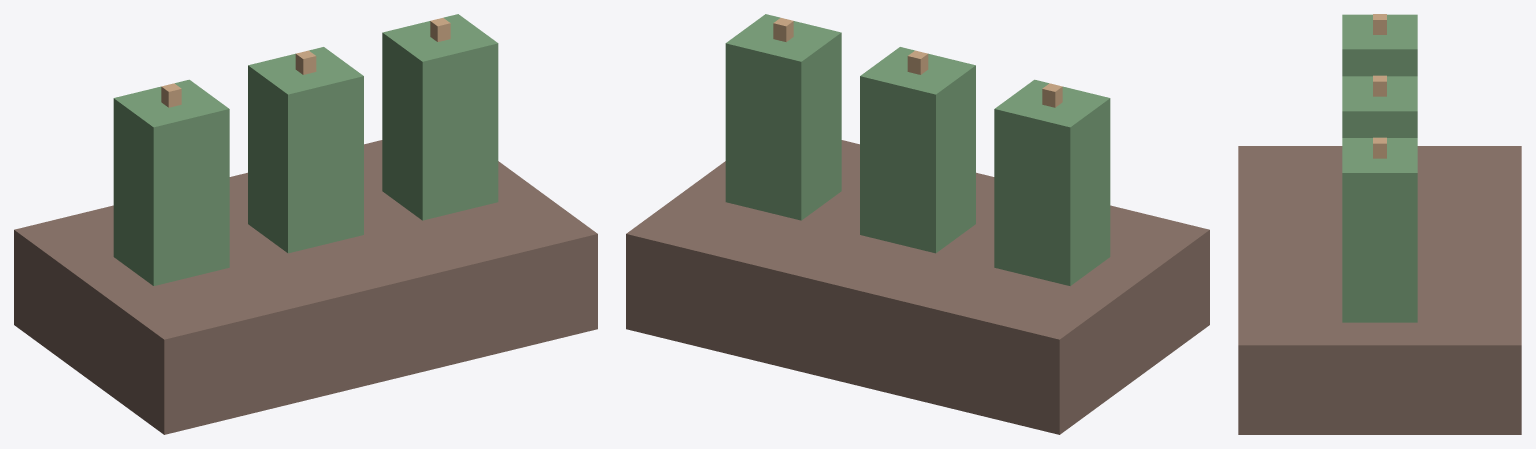
The model's file is herbalist_garden_box.glb.
3 views of the same model, side by side, from view 1: azimuth 30°, elevation 25°; view 2: azimuth 150°, elevation 25°; view 3: azimuth 270°, elevation 25° (orthographic). The views are drawn at different scales.
Visible parts, largest first — view 1: wood_dark, leaf, wood_light; view 2: wood_dark, leaf, wood_light; view 3: wood_dark, leaf, wood_light.
Boxes of the visible parts, x1=… form: wood_dark: x1=14, y1=140, x2=597, y2=434; leaf: x1=113, y1=14, x2=498, y2=285; wood_light: x1=161, y1=18, x2=450, y2=107; wood_dark: x1=626, y1=140, x2=1209, y2=434; leaf: x1=725, y1=14, x2=1110, y2=285; wood_light: x1=773, y1=18, x2=1062, y2=107; wood_dark: x1=1238, y1=146, x2=1521, y2=434; leaf: x1=1342, y1=14, x2=1417, y2=322; wood_light: x1=1373, y1=14, x2=1386, y2=158.
Size of the model in its own units: 2 by 1.2 by 1.2.
